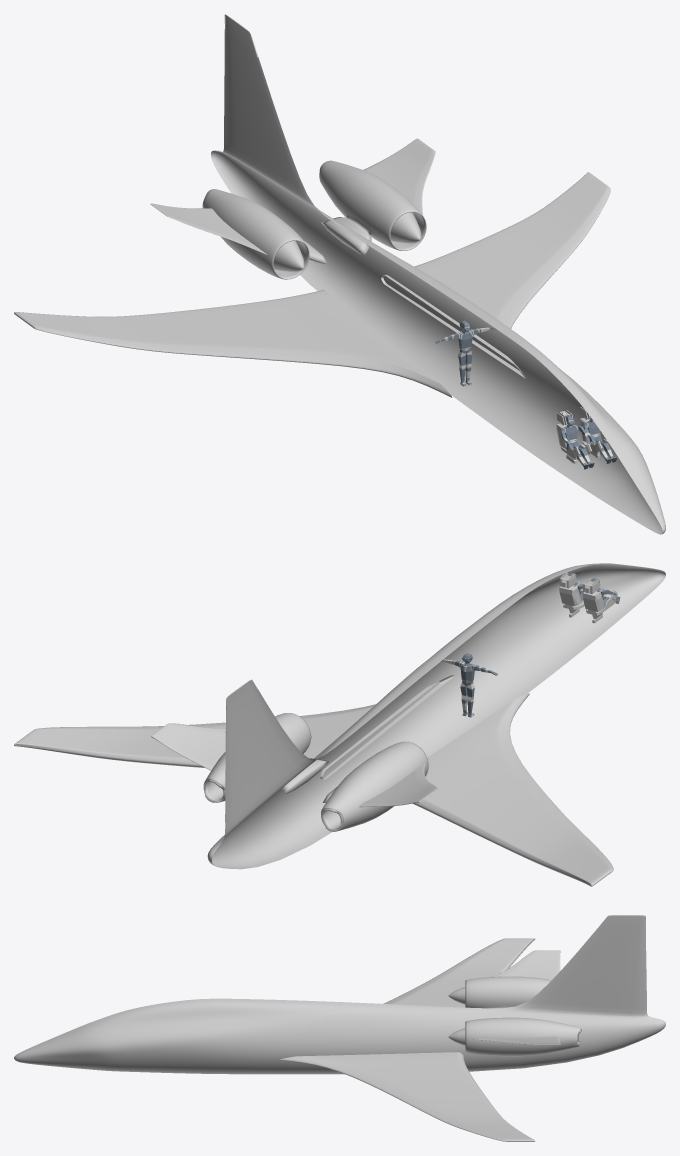
The model's file is SC Private 001.dae.
3 renders of one model, top to bottom at view 1: azimuth 30°, elevation 25°; view 2: azimuth 150°, elevation 25°; view 3: azimuth 270°, elevation 25°, orthographic. The views are drawn at different scales.
Parts seen in each view (by area): view 1: Main_Hull_0001, Wing_set, Engine_01_Left, Engine_01_Right, Elevator_L01, Elevator_R01, Human_reference_1_75m_tall, Engine_02_Left, Engine_02_Right; view 2: Main_Hull_0001, Wing_set, Engine_01_Right, Elevator_L01, Engine_01_Left, Elevator_R01, Human_reference_1_75m_tall, X01_Pilot_Seat_02, X01_Pilot_Seat_01; view 3: Main_Hull_0001, Wing_set, Engine_01_Left, Engine_01_Right, Elevator_R01, Elevator_L01.
Part boxes in pixels (x1=…): Main_Hull_0001: x1=211, y1=14, x2=665, y2=534; Wing_set: x1=14, y1=172, x2=610, y2=397; Engine_01_Left: x1=319, y1=160, x2=426, y2=254; Engine_01_Right: x1=202, y1=189, x2=327, y2=279; Elevator_L01: x1=363, y1=138, x2=435, y2=214; Elevator_R01: x1=150, y1=203, x2=267, y2=255; Human_reference_1_75m_tall: x1=435, y1=320, x2=495, y2=386; Engine_02_Left: x1=390, y1=212, x2=421, y2=243; Engine_02_Right: x1=273, y1=240, x2=304, y2=271; Main_Hull_0001: x1=207, y1=563, x2=665, y2=869; Wing_set: x1=14, y1=675, x2=613, y2=886; Engine_01_Right: x1=321, y1=741, x2=428, y2=831; Elevator_L01: x1=151, y1=723, x2=225, y2=770; Engine_01_Left: x1=203, y1=713, x2=328, y2=802; Elevator_R01: x1=359, y1=763, x2=437, y2=807; Human_reference_1_75m_tall: x1=441, y1=653, x2=497, y2=717; X01_Pilot_Seat_02: x1=582, y1=578, x2=617, y2=623; X01_Pilot_Seat_01: x1=559, y1=572, x2=584, y2=617; Main_Hull_0001: x1=14, y1=915, x2=665, y2=1074; Wing_set: x1=279, y1=938, x2=535, y2=1141; Engine_01_Left: x1=465, y1=1017, x2=580, y2=1056; Engine_01_Right: x1=465, y1=976, x2=551, y2=1008; Elevator_R01: x1=492, y1=950, x2=560, y2=979; Elevator_L01: x1=472, y1=1036, x2=560, y2=1044.
Bounding box in the file's own units: 17.03 × 23.16 × 6.1.
